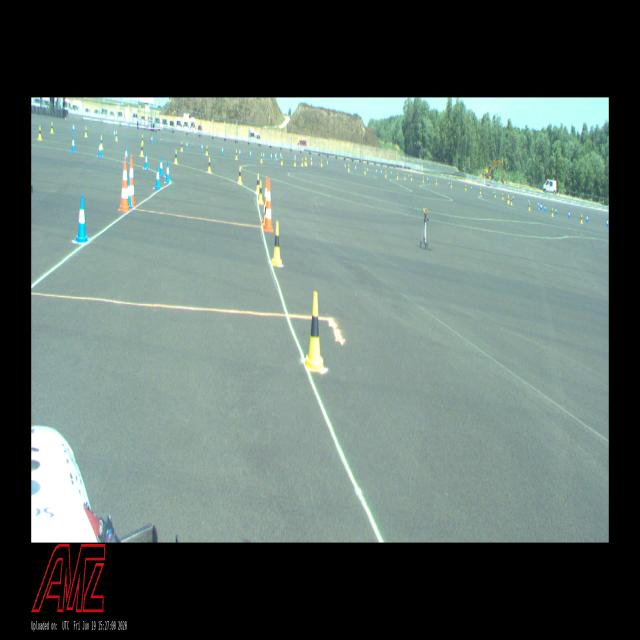blue_cone: (75, 194, 88, 243), (154, 164, 161, 189), (128, 175, 132, 211), (165, 160, 170, 183), (159, 155, 164, 177), (144, 150, 149, 170), (71, 134, 75, 152), (98, 140, 102, 157), (125, 145, 128, 164), (606, 216, 609, 228), (72, 121, 75, 132), (113, 129, 116, 139), (249, 150, 252, 158), (151, 134, 153, 144), (239, 148, 241, 158), (586, 213, 588, 223), (186, 140, 188, 149), (201, 143, 203, 152), (222, 146, 224, 155), (275, 152, 277, 161), (568, 210, 570, 219), (555, 207, 557, 216), (544, 203, 546, 212), (263, 152, 265, 160), (270, 152, 272, 160), (280, 151, 282, 159), (354, 164, 356, 172), (366, 166, 368, 174), (380, 168, 382, 176), (537, 200, 539, 208), (492, 189, 494, 197), (470, 184, 472, 192), (408, 172, 410, 180), (344, 163, 346, 170), (376, 168, 378, 175), (390, 170, 392, 177), (448, 180, 450, 187), (426, 176, 428, 183), (326, 160, 328, 166), (512, 195, 514, 200), (541, 202, 542, 211), (528, 198, 529, 206), (540, 202, 541, 209)
large_orange_cone: (118, 156, 130, 213), (263, 178, 273, 232), (128, 154, 136, 209), (262, 176, 268, 226)
yellow_cone: (304, 292, 324, 372), (271, 220, 282, 266), (257, 179, 264, 204), (262, 197, 267, 229), (256, 172, 260, 194), (207, 157, 212, 174), (37, 124, 42, 140), (238, 166, 242, 185), (174, 148, 178, 165), (100, 134, 104, 150), (140, 142, 144, 156), (50, 121, 54, 134), (205, 144, 209, 157), (84, 126, 88, 138), (235, 148, 238, 162), (180, 140, 183, 152), (141, 134, 144, 146), (260, 152, 263, 164), (115, 130, 118, 141), (580, 213, 583, 224), (507, 194, 510, 205), (479, 187, 482, 195), (281, 155, 283, 166), (301, 156, 303, 167), (528, 201, 530, 212), (551, 207, 553, 217), (304, 156, 306, 165), (306, 158, 308, 167), (310, 157, 312, 166), (348, 164, 350, 173), (364, 166, 366, 175), (404, 172, 406, 181), (410, 173, 412, 182), (294, 158, 296, 166), (320, 159, 322, 167), (396, 172, 398, 180), (510, 197, 512, 205), (502, 192, 504, 200), (385, 171, 387, 178), (494, 191, 496, 198), (464, 184, 466, 191), (450, 181, 452, 188), (435, 178, 437, 185), (422, 176, 424, 183)
